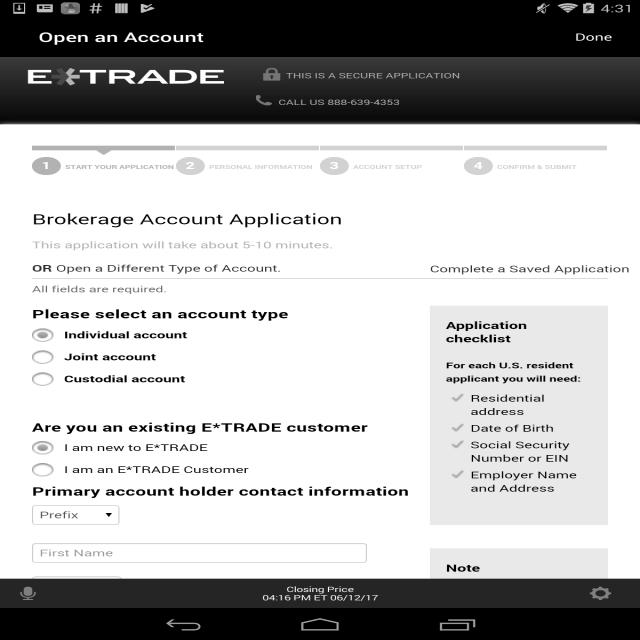Button: (32, 505, 119, 525), (564, 24, 623, 51)
EditText: (32, 543, 367, 563), (32, 610, 367, 630), (32, 576, 122, 596)
ImageView: (578, 580, 623, 608), (10, 583, 44, 604)
RadioButton: (0, 463, 250, 476), (0, 441, 208, 454), (0, 328, 188, 342), (0, 372, 186, 386), (0, 350, 157, 364)
TextView: (38, 28, 204, 46), (262, 584, 378, 602)
